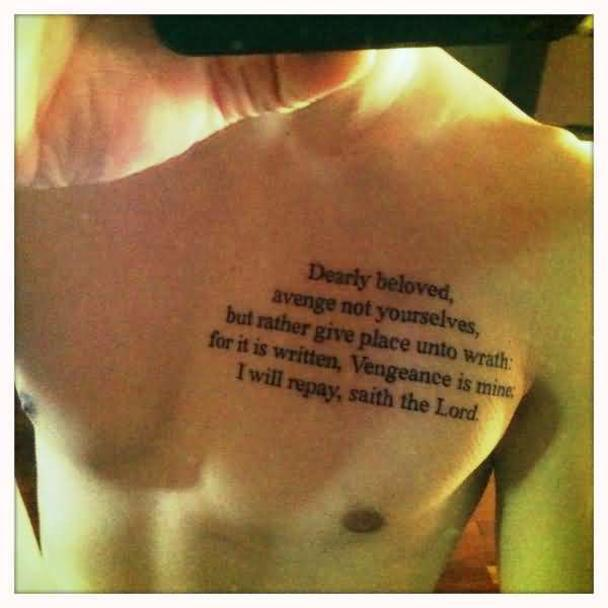tattoos: (206, 261, 515, 424)
